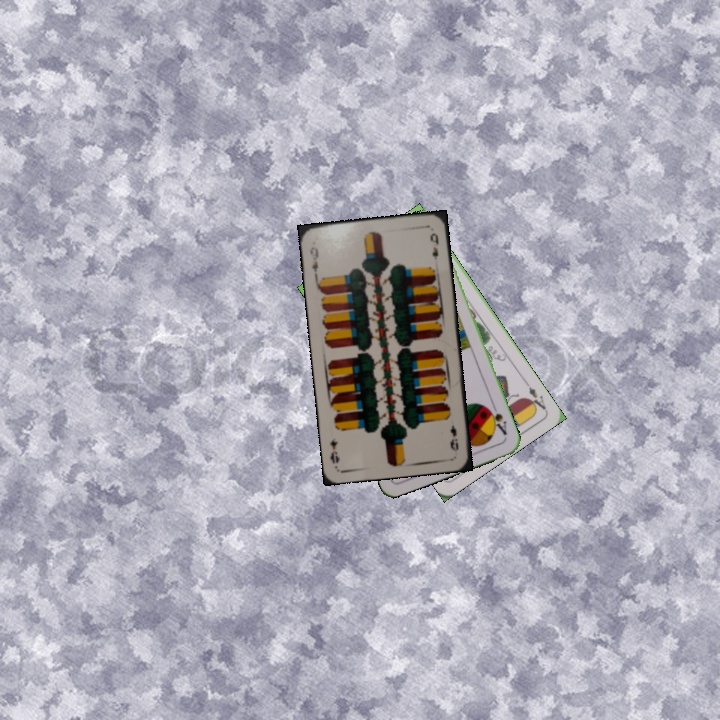E9: (306, 243, 321, 280), (446, 421, 461, 454)
EA: (521, 377, 548, 414)
SA: (484, 400, 509, 438)
